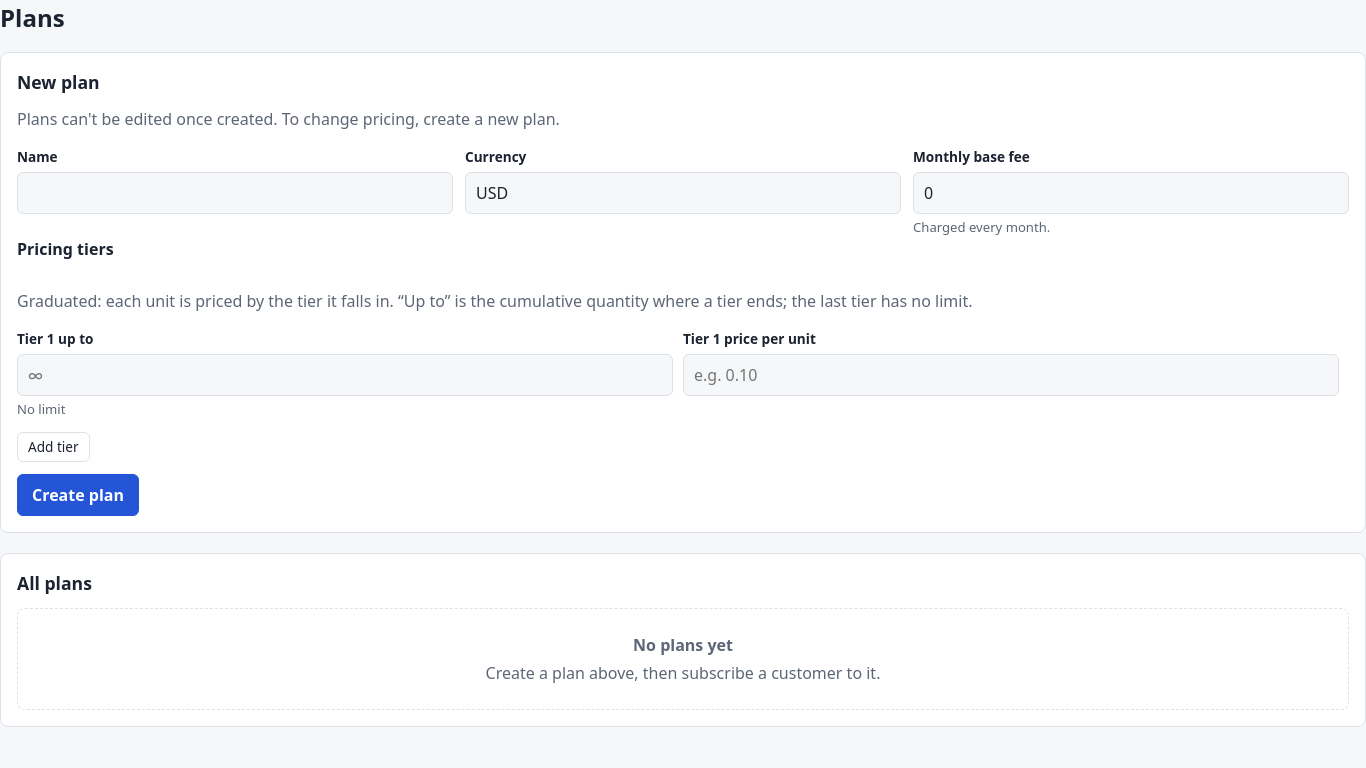
PlansPage › shows a server rejection at the right field, with a next step
The image size is (1366, 768).
Expected: the text "No plans yet" is shown, x1=633 y1=634 x2=733 y2=656
In the field labelled "Name": {"x": 235, "y": 193} x1=17 y1=172 x2=453 y2=214, type "Pro"
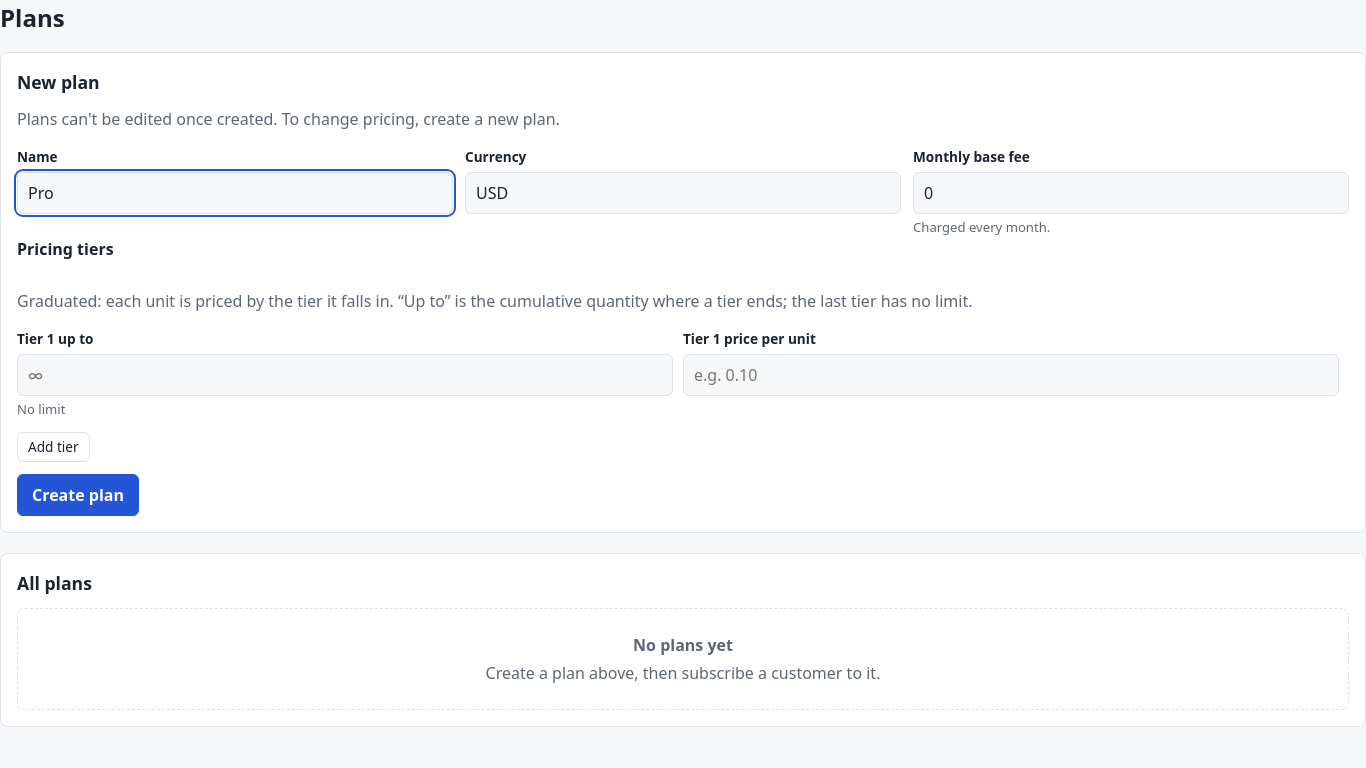
In the field labelled "Tier 1 price per unit": {"x": 1011, "y": 375} x1=683 y1=354 x2=1339 y2=396, type "0.1"
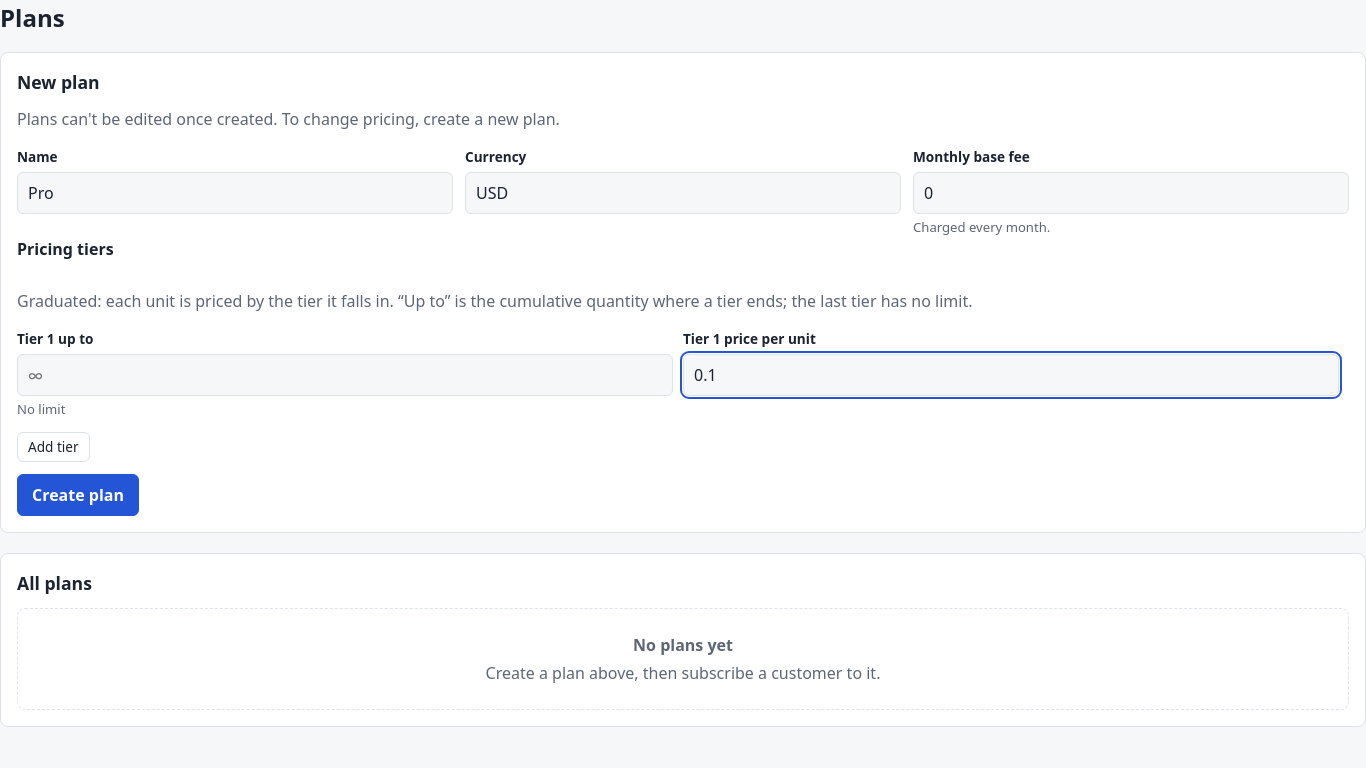
Click the button "Create plan": {"x": 78, "y": 495} x1=17 y1=474 x2=139 y2=516
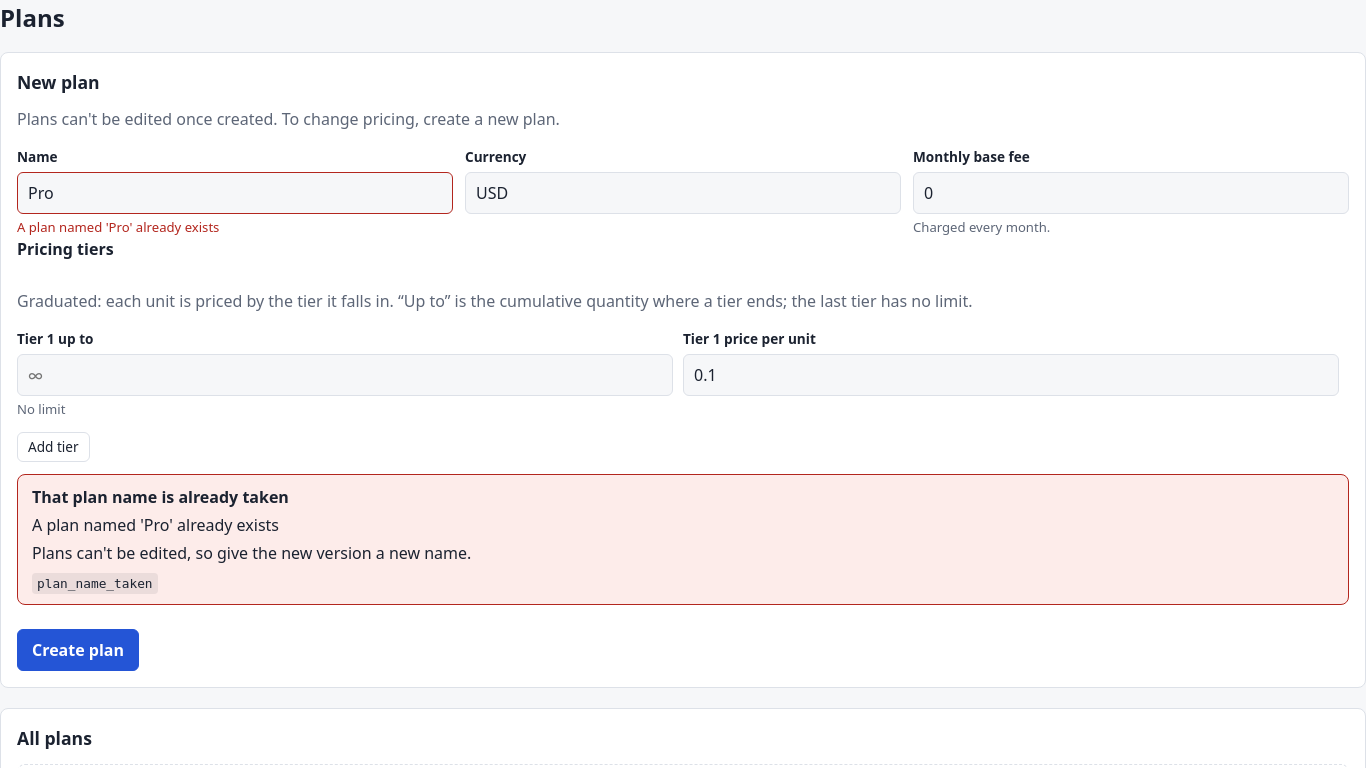
Result: the text "That plan name is already taken" is shown at x1=32 y1=486 x2=289 y2=508
Result: the text "Plans can't be edited, so give the new version a new name." is shown at x1=32 y1=542 x2=471 y2=564
